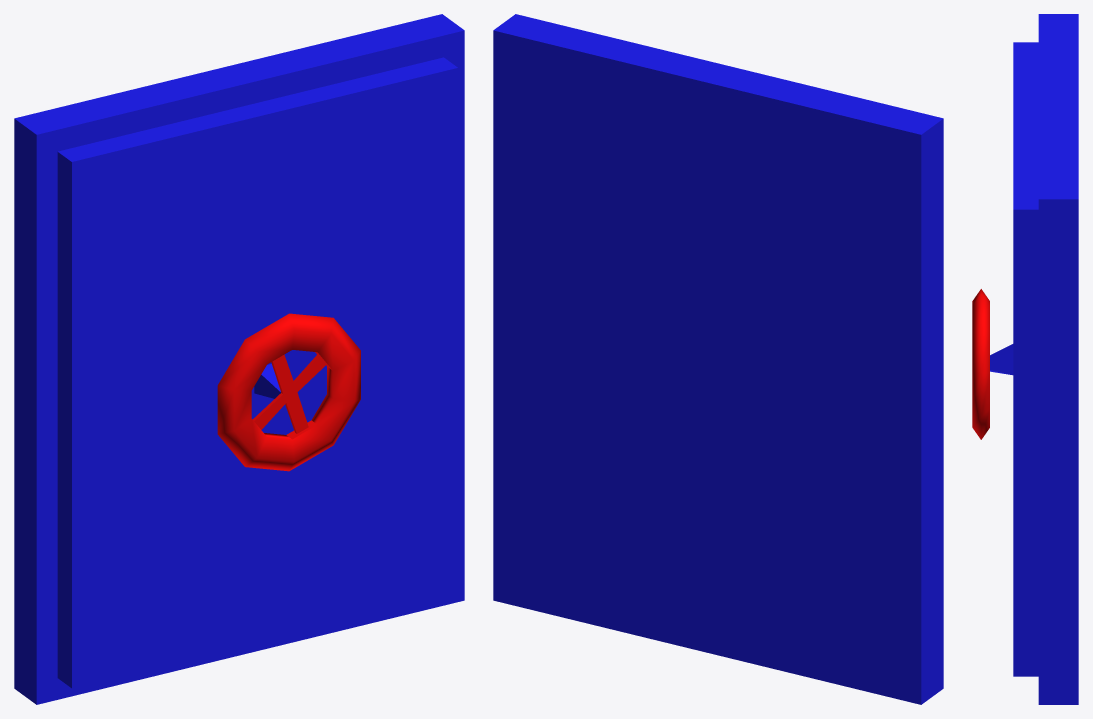
File: Puerta.FBX
The picture shows the model from 3 angles, left to right: view 1: azimuth 30°, elevation 25°; view 2: azimuth 150°, elevation 25°; view 3: azimuth 270°, elevation 25°; orthographic projection. The views are drawn at different scales.
Visible parts, largest first — view 1: Box002; view 2: Box002; view 3: Box002.
Boxes of the visible parts, x1,y1,x2,y2 form: Box002: [14, 14, 464, 704]; Box002: [493, 14, 943, 704]; Box002: [972, 14, 1078, 704].
Size of the model in its own units: 22 by 28 by 5.32.
